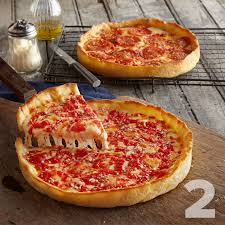pizza: (16, 99, 188, 201), (80, 18, 209, 76)
